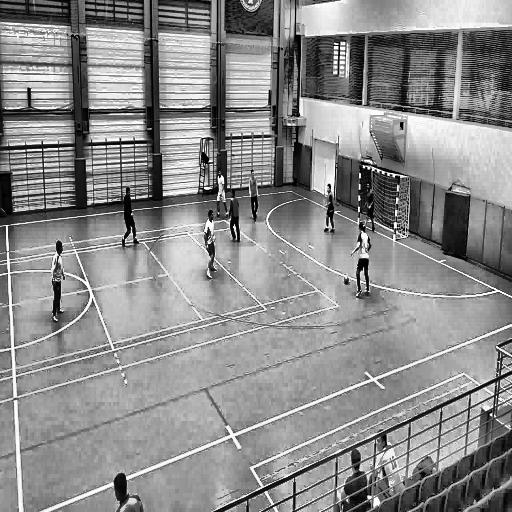ball: (342, 273, 352, 287)
player: (368, 426, 404, 494), (332, 445, 368, 506), (351, 221, 372, 300), (50, 236, 66, 325), (120, 186, 140, 248), (203, 208, 219, 283), (228, 185, 242, 246), (215, 164, 230, 220), (248, 168, 262, 227), (362, 180, 377, 231), (323, 183, 337, 237)
